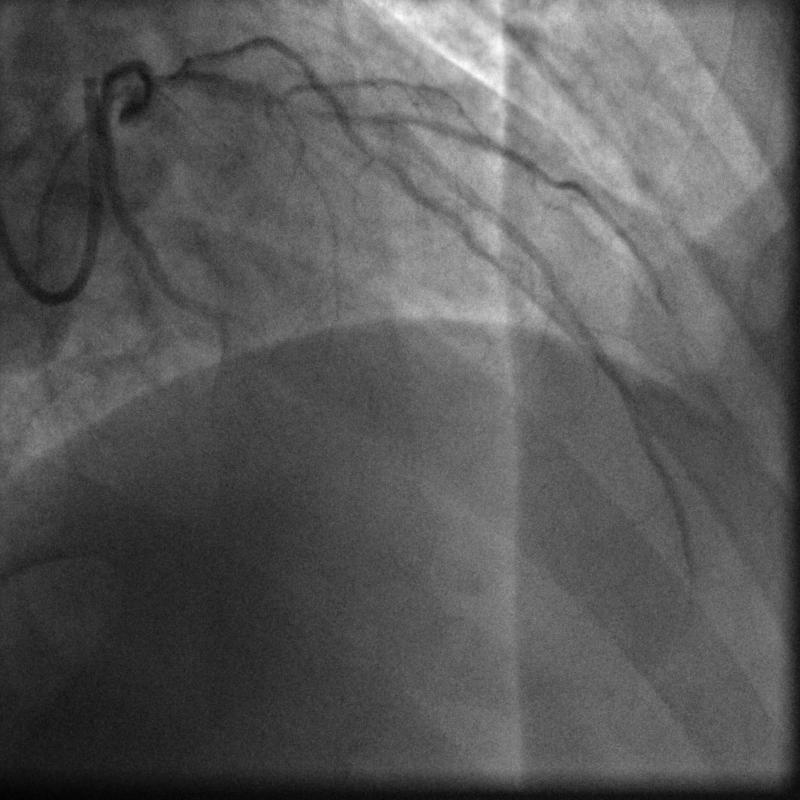Stenosis: (278, 94, 378, 133)
